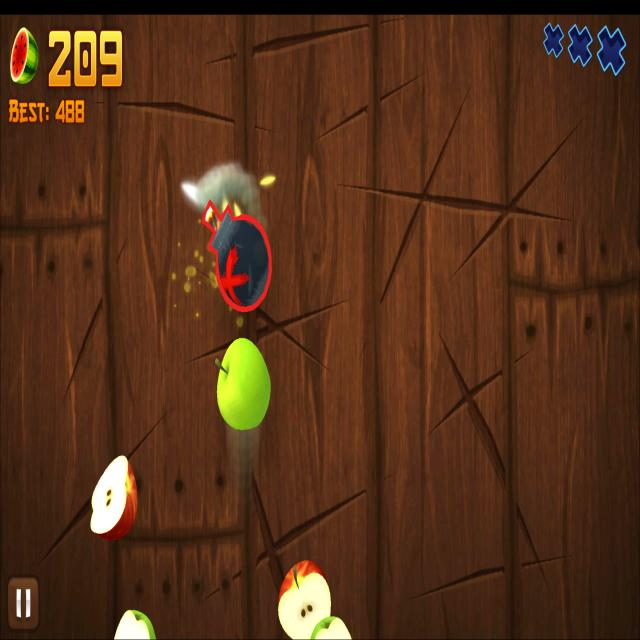bomb: (201, 200, 273, 314)
fruit: (216, 337, 272, 430)
